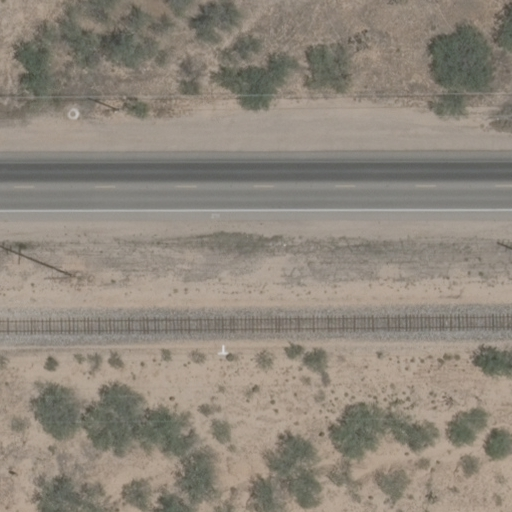DT: (1, 240, 75, 277)
